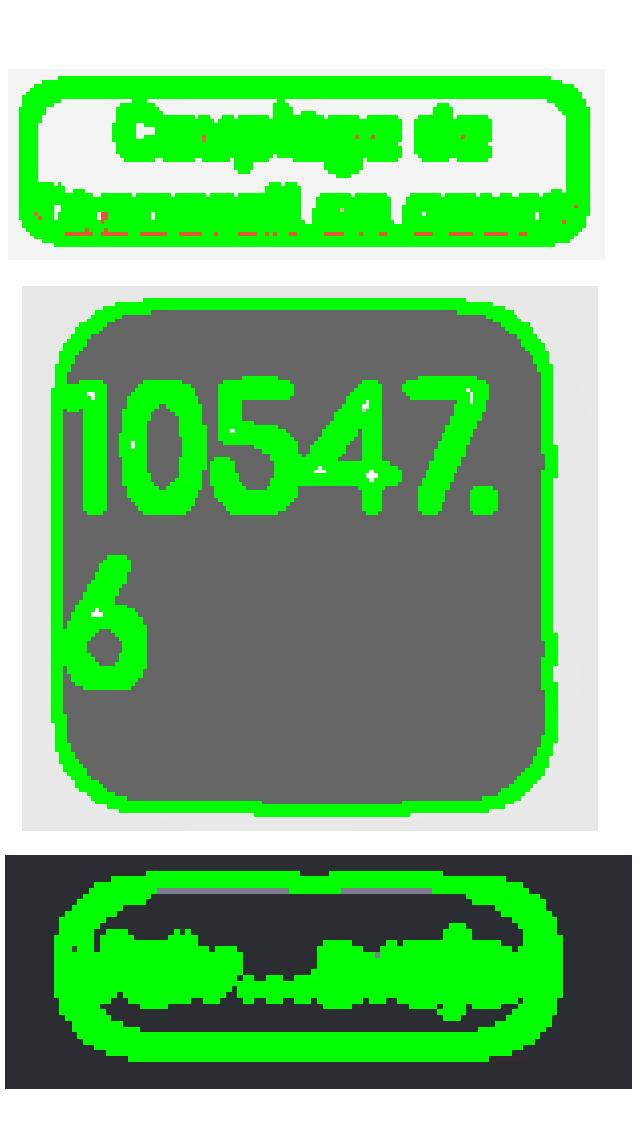WS1: (28, 878, 149, 1075), (8, 334, 129, 522), (481, 861, 587, 1058), (18, 548, 114, 742), (71, 44, 181, 137), (398, 44, 514, 130), (255, 54, 356, 144)
